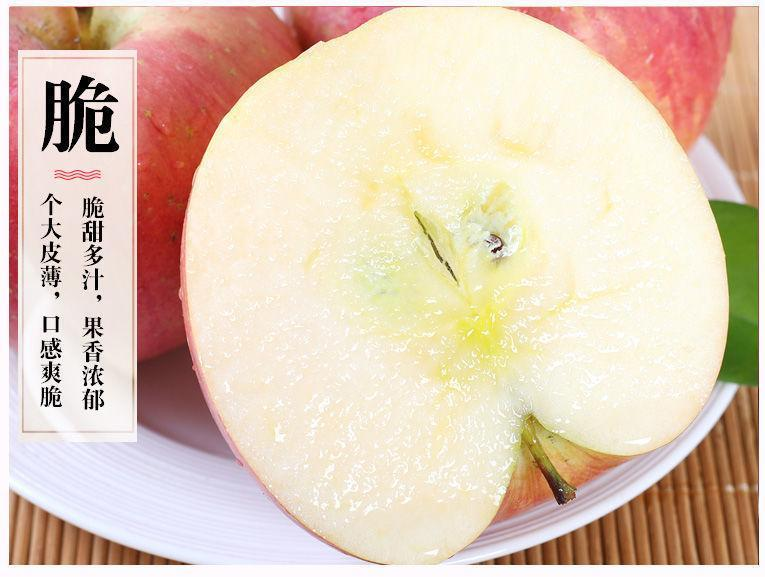apple: (45, 1, 311, 373), (531, 4, 742, 154)
